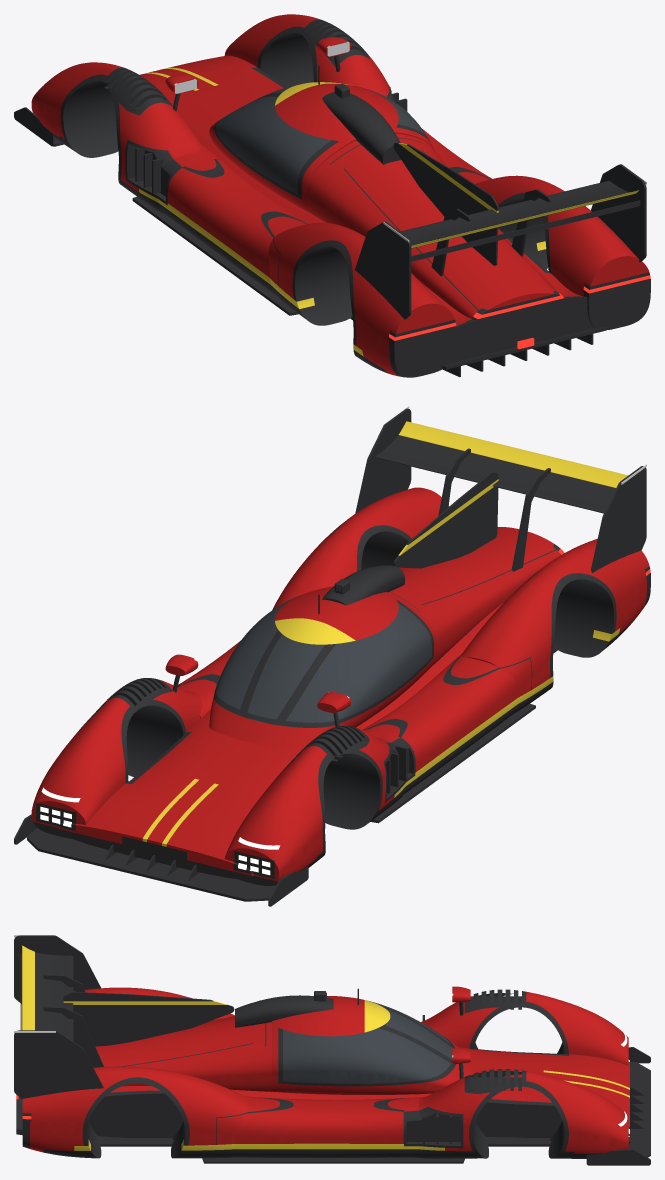
Rendered from body.glb.
3 renders of one model, top to bottom at view 1: azimuth 30°, elevation 25°; view 2: azimuth 150°, elevation 25°; view 3: azimuth 270°, elevation 25°, orthographic. The views are drawn at different scales.
Visible parts, largest first — view 1: Livery, Carbon, Glass, Accent, Light; view 2: Livery, Carbon, Glass, Accent, Headlight; view 3: Livery, Carbon, Glass, Accent.
Boxes of the visible parts, bbox=[...] form: Livery: bbox=[31, 14, 649, 376]; Carbon: bbox=[14, 19, 650, 377]; Glass: bbox=[215, 83, 427, 194]; Accent: bbox=[139, 67, 638, 356]; Light: bbox=[389, 275, 650, 349]; Livery: bbox=[31, 487, 649, 881]; Carbon: bbox=[14, 408, 650, 906]; Glass: bbox=[215, 586, 431, 723]; Accent: bbox=[142, 421, 627, 846]; Headlight: bbox=[40, 787, 280, 875]; Livery: bbox=[22, 986, 629, 1153]; Carbon: bbox=[14, 935, 650, 1165]; Glass: bbox=[283, 993, 452, 1083]; Accent: bbox=[22, 945, 629, 1150].
Bounding box in the file's own units: 2.02 × 1.17 × 5.16.
